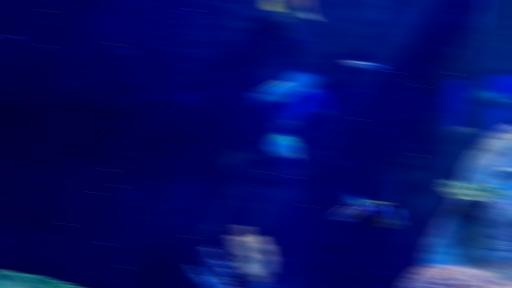Fish: (333, 194, 400, 227), (250, 81, 297, 106), (264, 0, 317, 21), (285, 71, 322, 93), (267, 135, 298, 158), (342, 60, 387, 70)
